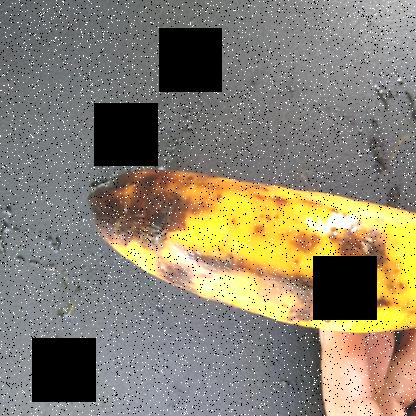rotten: (71, 153, 416, 353)
